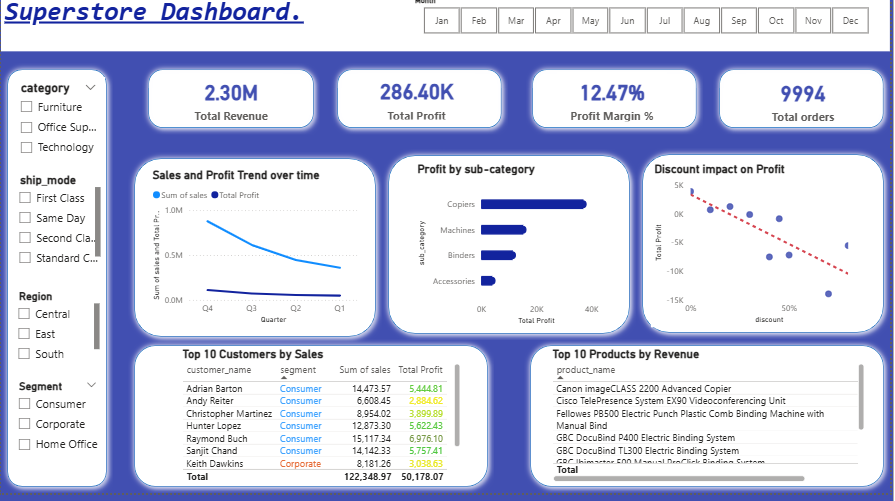

This screenshot's page, from the dashboard's own definition file:
{"tool":"powerbi","page":{"name":"Page 1","canvas":[1280,720],"ordinal":0},"visuals":[{"type":"shape","box":[182.9,229,365.8,275],"z":0},{"type":"shape","box":[0,100.8,161.3,619.2],"z":1000},{"type":"shape","box":[182.9,498.2,527,221.8],"z":2000},{"type":"textbox","box":[0,0,1280.2,83.5],"z":3000},{"type":"shape","box":[755.4,100.8,254.6,102.5],"z":4000},{"type":"shape","box":[548.6,224.6,365.8,275],"z":4500},{"type":"shape","box":[1025.4,100.8,254.6,102.5],"z":5000},{"type":"shape","box":[914.4,223.2,365.8,275],"z":6000},{"type":"shape","box":[475.1,100.8,254.6,102.5],"z":7000},{"type":"shape","box":[203.4,100.8,256.3,102.5],"z":8000},{"type":"card","fields":{"Values":["cleaned_superstore.Total Revenue"]},"box":[256.3,114.5,150.4,73.5],"z":9000},{"type":"card","fields":{"Values":["cleaned_superstore.Total Profit"]},"box":[514.4,114.5,169.2,71.8],"z":10000},{"type":"card","fields":{"Values":["cleaned_superstore.Total orders"]},"box":[1073.2,114.5,164.1,75.2],"z":11000},{"type":"card","fields":{"Values":["cleaned_superstore.Profit Margin %"]},"box":[800.6,113.8,158.4,76.3],"z":12000},{"type":"tableEx","title":"Top 10 Customers by Sales ","fields":{"Values":["cleaned_superstore.customer_name","cleaned_superstore.segment","Sum(cleaned_superstore.sales)","cleaned_superstore.Total Profit"]},"box":[256.3,509.8,410.4,198.7],"z":13000},{"type":"clusteredBarChart","title":"Profit  by sub-category","fields":{"Y":["cleaned_superstore.Total Profit"],"Category":["cleaned_superstore.sub_category"]},"box":[594.7,243.4,270.7,239],"z":14000},{"type":"scatterChart","title":"Discount impact on Profit","fields":{"Y":["cleaned_superstore.Total Profit"],"X":["cleaned_superstore.discount"]},"box":[936,243.4,301,237.6],"z":15000},{"type":"slicer","fields":{"Values":["cleaned_superstore.segment"]},"box":[13,551.5,136.8,136.8],"z":16000},{"type":"slicer","fields":{"Values":["cleaned_superstore.order_month_name"]},"box":[583.2,0,689.8,64.8],"z":17000},{"type":"slicer","fields":{"Values":["cleaned_superstore.region"]},"box":[13,421.9,133.9,118.1],"z":18000},{"type":"lineChart","title":"Sales and Profit Trend over time","fields":{"Y":["Sum(cleaned_superstore.sales)","cleaned_superstore.Total Profit"],"Category":["cleaned_superstore.Quarter"]},"box":[213.1,252,305.3,229],"z":19000},{"type":"slicer","fields":{"Values":["cleaned_superstore.category"]},"box":[15.8,121,133.9,132.5],"z":20000},{"type":"shape","box":[753.1,498.2,527,221.8],"z":20001},{"type":"tableEx","title":"Top 10 Products by Revenue","fields":{"Values":["cleaned_superstore.product_name","cleaned_superstore.Total Revenue"]},"box":[789.1,509.8,459.4,198.7],"z":20002},{"type":"slicer","fields":{"Values":["cleaned_superstore.ship_mode"]},"box":[14.4,253.4,133.9,142.6],"z":20003}]}

Visuals, with their boxes in screenshot pixels (x1, y1, x2, y2), scaled from the page's 1280x720 canvas onto the 895x501 screenshot:
shape: bbox=(128, 159, 384, 351)
shape: bbox=(0, 70, 113, 500)
shape: bbox=(128, 347, 496, 500)
textbox: bbox=(0, 0, 894, 58)
shape: bbox=(528, 70, 706, 141)
shape: bbox=(384, 156, 639, 348)
shape: bbox=(717, 70, 894, 141)
shape: bbox=(639, 155, 894, 347)
shape: bbox=(332, 70, 510, 141)
shape: bbox=(142, 70, 321, 141)
card - cleaned_superstore.Total Revenue: bbox=(179, 80, 284, 131)
card - cleaned_superstore.Total Profit: bbox=(360, 80, 478, 130)
card - cleaned_superstore.Total orders: bbox=(750, 80, 865, 132)
card - cleaned_superstore.Profit Margin %: bbox=(560, 79, 671, 132)
"Top 10 Customers by Sales " tableEx: bbox=(179, 355, 466, 493)
"Profit  by sub-category" clusteredBarChart: bbox=(416, 169, 605, 336)
"Discount impact on Profit" scatterChart: bbox=(654, 169, 865, 335)
slicer - cleaned_superstore.segment: bbox=(9, 384, 105, 479)
slicer - cleaned_superstore.order_month_name: bbox=(408, 0, 890, 45)
slicer - cleaned_superstore.region: bbox=(9, 294, 103, 376)
"Sales and Profit Trend over time" lineChart: bbox=(149, 175, 362, 335)
slicer - cleaned_superstore.category: bbox=(11, 84, 105, 176)
shape: bbox=(527, 347, 894, 500)
"Top 10 Products by Revenue" tableEx: bbox=(552, 355, 873, 493)
slicer - cleaned_superstore.ship_mode: bbox=(10, 176, 104, 276)
